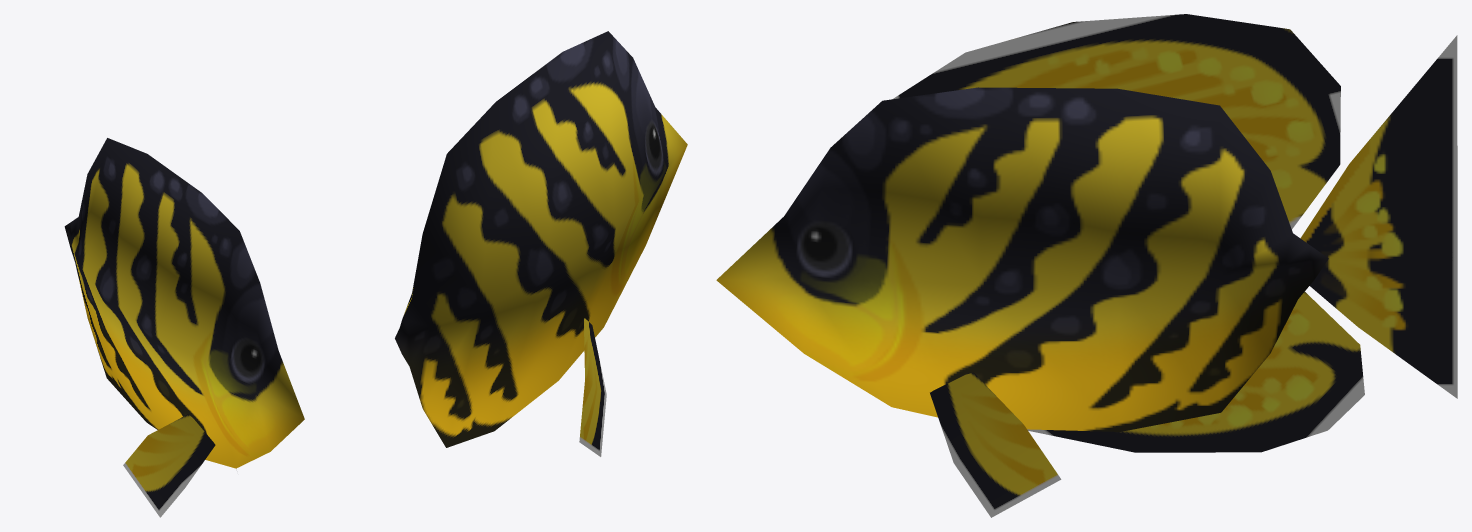
Rendered from yellow-fish.gltf.
The picture shows the model from 3 angles, left to right: view 1: azimuth 30°, elevation 25°; view 2: azimuth 150°, elevation 25°; view 3: azimuth 270°, elevation 25°; orthographic projection. The views are drawn at different scales.
Parts seen in each view (by area): view 1: Yellow_Fish_06; view 2: Yellow_Fish_06; view 3: Yellow_Fish_06.
Part boxes in pixels (left/top/right/bottom): Yellow_Fish_06: left=64, top=138, right=304, bottom=517; Yellow_Fish_06: left=395, top=31, right=687, bottom=456; Yellow_Fish_06: left=716, top=14, right=1457, bottom=517.
Size of the model in its own units: 16.54 by 64.19 by 89.65.
1 material, 1 textured.
